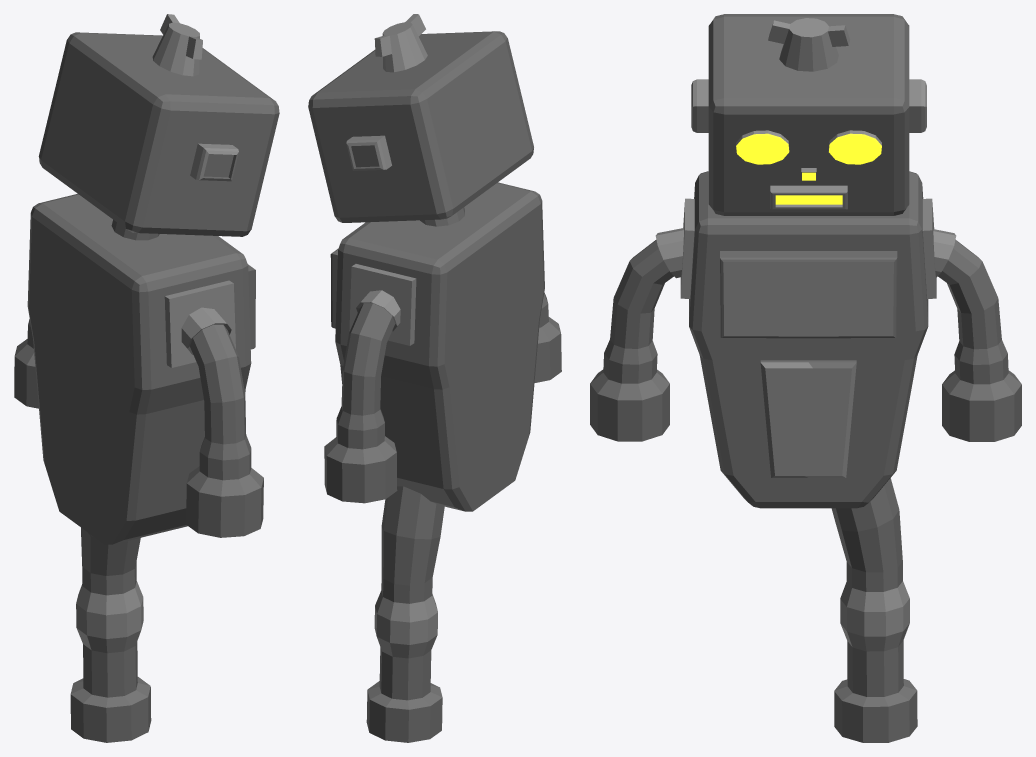
File: robot dañado2.glb
3 views of the same model, side by side, from view 1: azimuth 30°, elevation 25°; view 2: azimuth 150°, elevation 25°; view 3: azimuth 270°, elevation 25° (orthographic). The views are drawn at different scales.
Parts seen in each view (by area): view 1: torso.001, cabeza.001, pierna, brazo2, hombro2, brazo; view 2: torso.001, cabeza.001, pierna, brazo, hombro, brazo2; view 3: torso.001, cabeza.001, pierna, brazo2, brazo, hombro, hombro2.
Boxes of the visible parts, <box> form: torso.001: <box>27,193,255,544</box>; cabeza.001: <box>38,14,279,240</box>; pierna: <box>70,527,151,742</box>; brazo2: <box>181,307,263,537</box>; hombro2: <box>164,280,235,367</box>; brazo: <box>14,319,38,408</box>; torso.001: <box>330,182,544,511</box>; cabeza.001: <box>308,14,533,226</box>; pierna: <box>366,486,444,742</box>; brazo: <box>324,290,400,503</box>; hombro: <box>349,264,416,345</box>; brazo2: <box>534,292,561,382</box>; torso.001: <box>689,171,928,508</box>; cabeza.001: <box>691,14,926,215</box>; pierna: <box>831,478,917,742</box>; brazo2: <box>590,228,683,441</box>; brazo: <box>933,229,1021,441</box>; hombro: <box>922,198,936,298</box>; hombro2: <box>680,198,694,298</box>.
Size of the model in its own units: 2.02 by 8.95 by 4.84.
